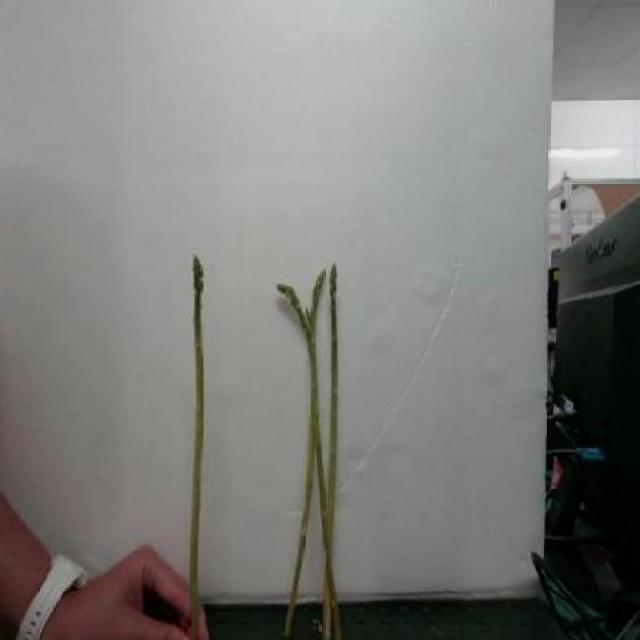aspargus: (186, 256, 205, 613), (323, 265, 340, 640)
